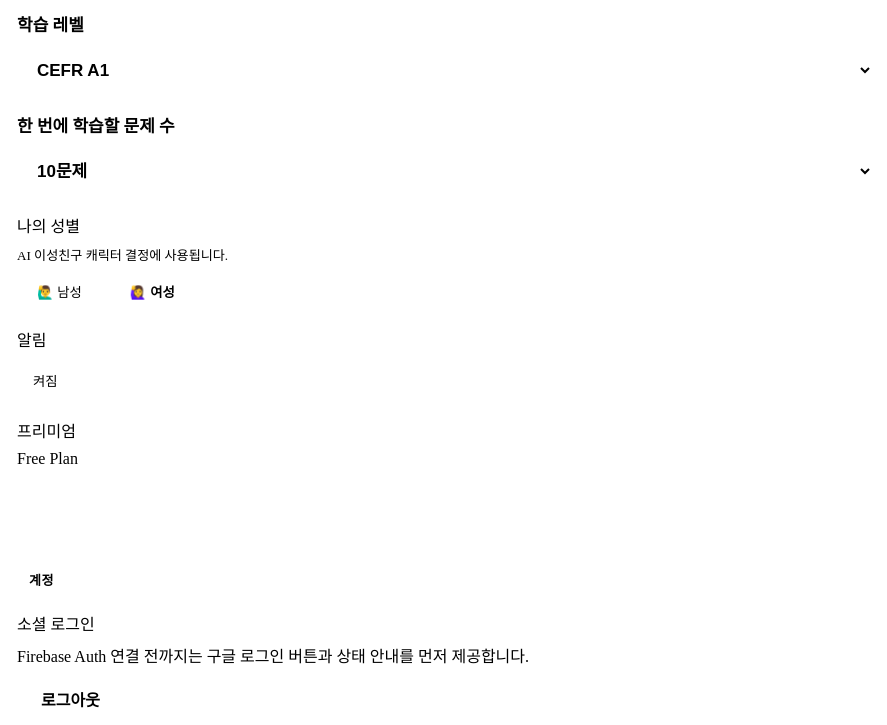
Test case: settings ui › toggles the notification setting
(page scrolled)
Click the button with aria-label "알림" at coordinates (45, 381), box [17,359,74,402]
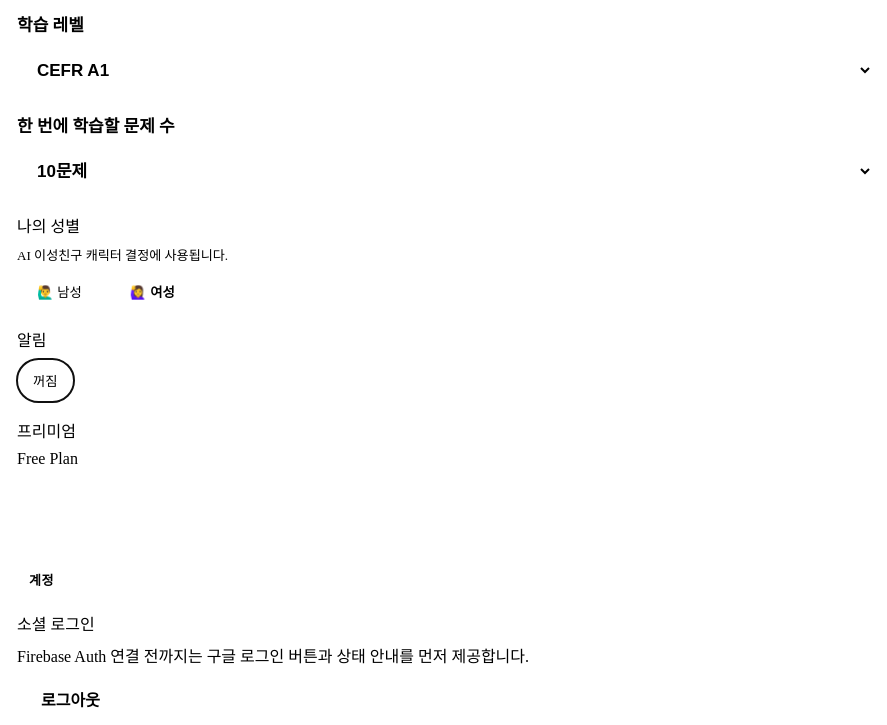
Result: the button with aria-label "알림" reads "꺼짐" at [17,359,74,402]
